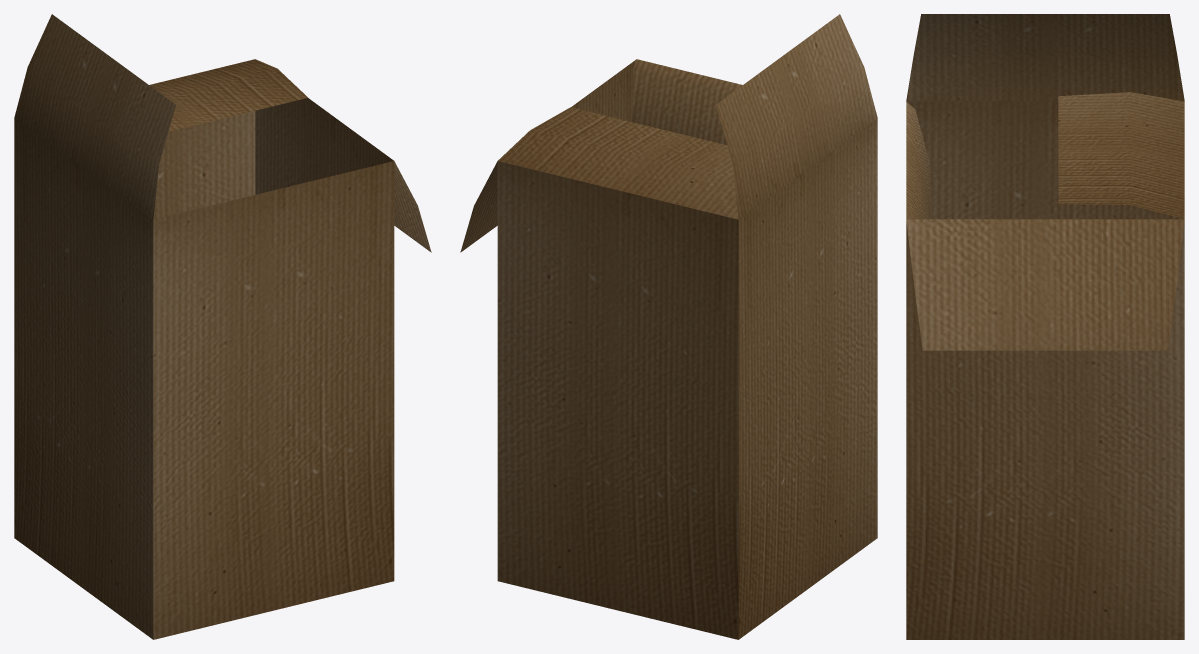
File: cardboard_opened.glb
The picture shows the model from 3 angles, left to right: view 1: azimuth 30°, elevation 25°; view 2: azimuth 150°, elevation 25°; view 3: azimuth 270°, elevation 25°; orthographic projection.
Visible parts, largest first — view 1: cardboard_opened; view 2: cardboard_opened; view 3: cardboard_opened.
Boxes of the visible parts, box(x1,y1,x2,y2) form: cardboard_opened: box(14, 14, 431, 639); cardboard_opened: box(460, 14, 877, 639); cardboard_opened: box(906, 14, 1184, 639).
Size of the model in its own units: 0.7134 by 1.24 by 0.6.
Materials: 1 (1 with a texture image).
